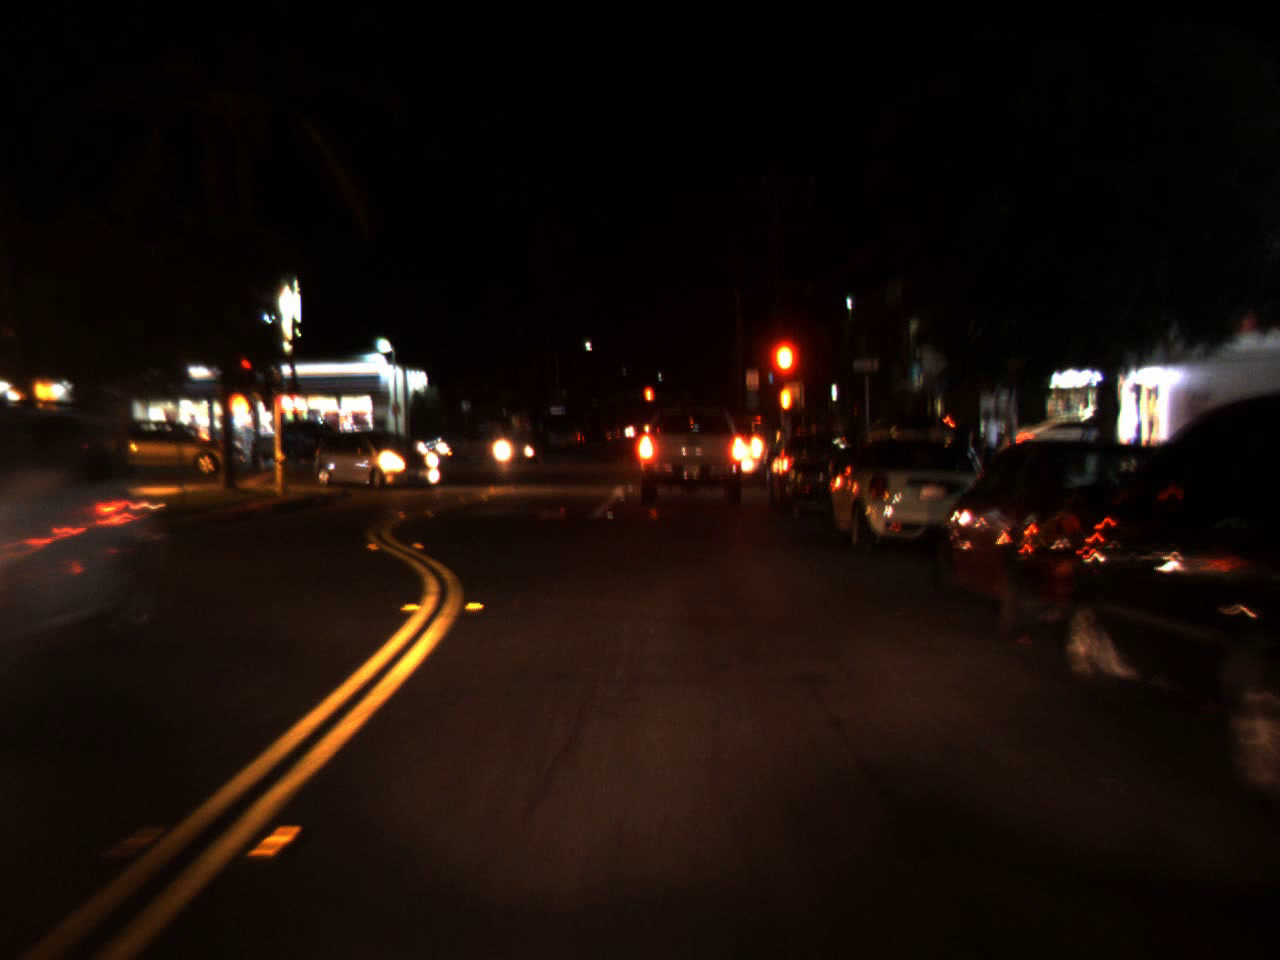stop: (769, 340, 797, 402), (642, 385, 655, 417), (240, 358, 252, 379)
